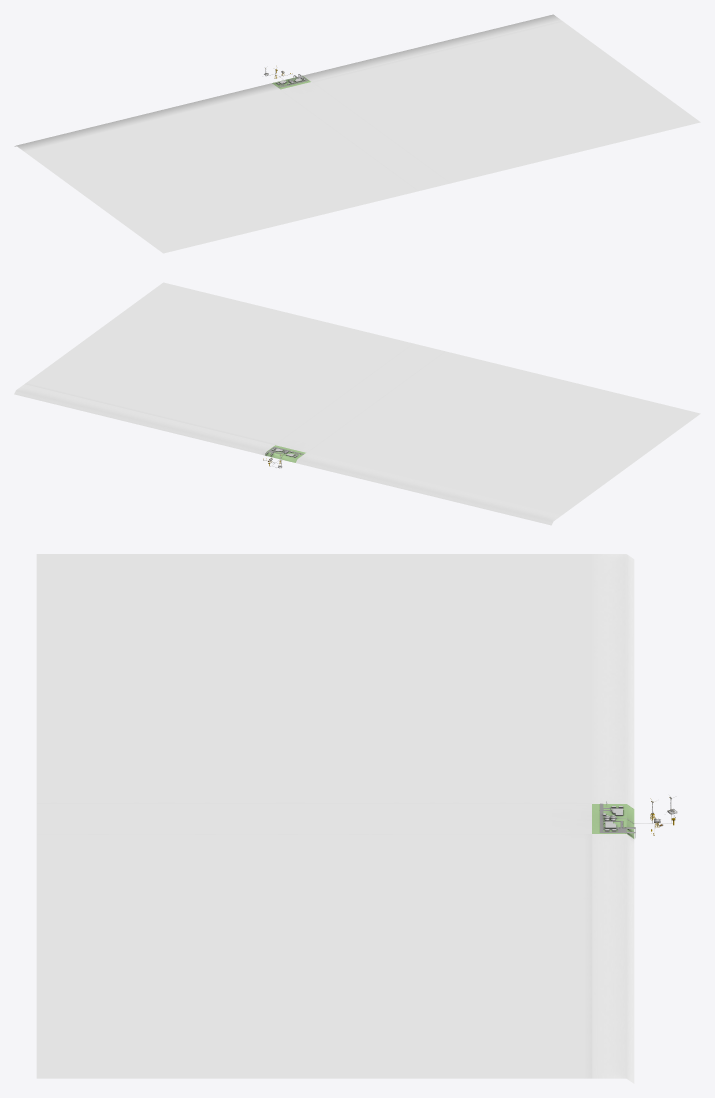
Rendered from Building_Distribution_NetworksModel.dae.
3 views of the same model, one above another, from view 1: azimuth 30°, elevation 25°; view 2: azimuth 150°, elevation 25°; view 3: azimuth 270°, elevation 25° (orthographic). The views are drawn at different scales.
Visible parts, largest first — view 1: Mesh415_Group162_Group161_Model_011; view 2: Mesh415_Group162_Group161_Model_011; view 3: Mesh415_Group162_Group161_Model_011.
Boxes of the visible parts, left/top/right/bottom form: Mesh415_Group162_Group161_Model_011: left=14, top=14, right=700, bottom=253; Mesh415_Group162_Group161_Model_011: left=14, top=282, right=700, bottom=525; Mesh415_Group162_Group161_Model_011: left=36, top=554, right=677, bottom=1083.
Size of the model in its own units: 194 by 100 by 4.06.
